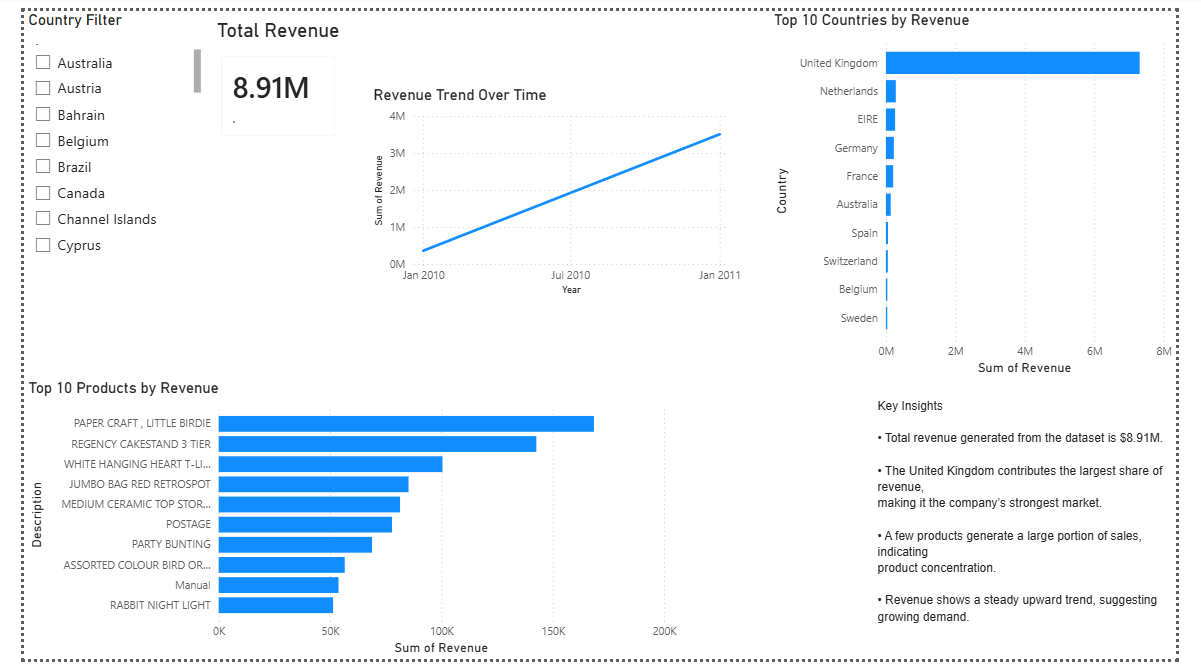

The page's visual inventory and layout, read from the dashboard file:
{"tool":"powerbi","page":{"name":"Page 1","canvas":[1280,720],"ordinal":0},"visuals":[{"type":"cardVisual","title":"Total Revenue","fields":{"Data":["Sum(data.Revenue)"]},"box":[201.7,8.3,161.7,148.3],"z":0},{"type":"lineChart","title":"Revenue Trend Over Time","fields":{"Category":["data.InvoiceDate.Variation.Date Hierarchy.Year","data.InvoiceDate.Variation.Date Hierarchy.Quarter","data.InvoiceDate.Variation.Date Hierarchy.Month","data.InvoiceDate.Variation.Date Hierarchy.Day"],"Y":["Sum(data.Revenue)"]},"box":[383.3,83.3,418.3,236.7],"z":1000},{"type":"clusteredBarChart","title":"Top 10 Products by Revenue","fields":{"Category":["data.Description"],"Y":["Sum(data.Revenue)"]},"box":[0,408.3,730,311.7],"z":2000},{"type":"clusteredBarChart","title":"Top 10 Countries by Revenue","fields":{"Category":["data.Country"],"Y":["Sum(data.Revenue)"]},"box":[828.3,0,451.7,408.3],"z":3000},{"type":"textbox","box":[943.3,423.3,336.7,296.7],"z":4000},{"type":"slicer","title":"Country Filter","fields":{"Values":["data.Country"]},"box":[0,0,201.7,275],"z":5000}]}

Visuals, with their boxes in screenshot pixels (x1, y1, x2, y2), scaled from the page's 1280x720 canvas onto the 1201x672 screenshot:
"Total Revenue" cardVisual: bbox=(189, 8, 341, 146)
"Revenue Trend Over Time" lineChart: bbox=(360, 78, 752, 299)
"Top 10 Products by Revenue" clusteredBarChart: bbox=(0, 381, 685, 671)
"Top 10 Countries by Revenue" clusteredBarChart: bbox=(777, 0, 1200, 381)
textbox: bbox=(885, 395, 1200, 671)
"Country Filter" slicer: bbox=(0, 0, 189, 257)
